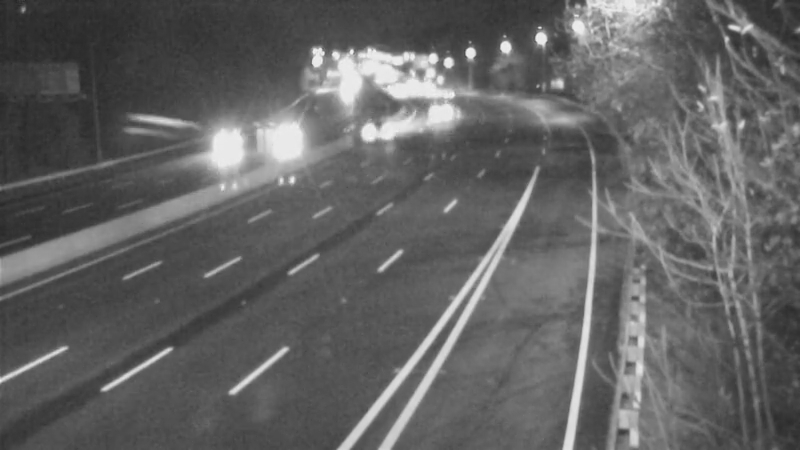vehicle: (420, 69, 470, 119), (391, 68, 441, 118), (417, 87, 467, 137), (358, 102, 408, 152), (200, 121, 250, 171), (257, 113, 307, 163)
